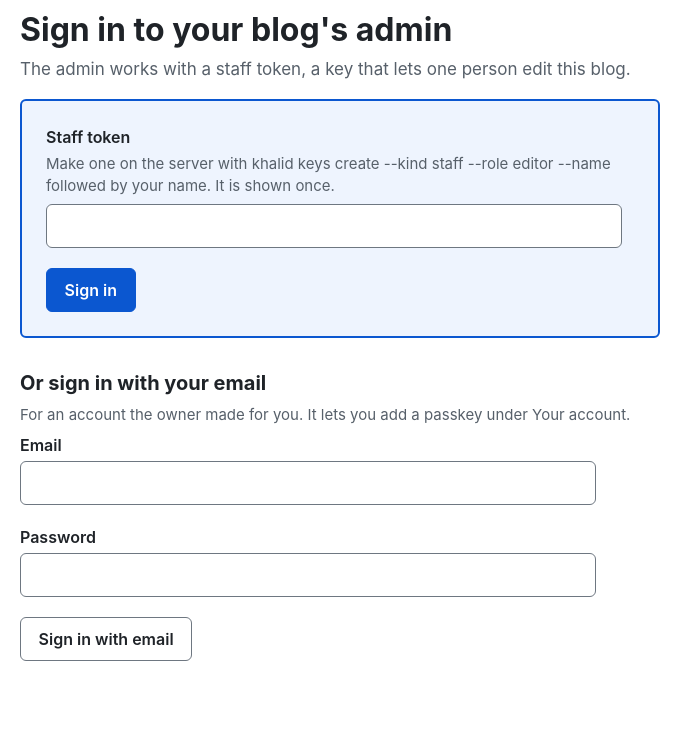
Test case: signing in › shows the API's words for a wrong password, and keeps nothing
The image size is (677, 755).
In the field labelled "Email": (308, 483) [20,461,596,505], type "lena@example.com"
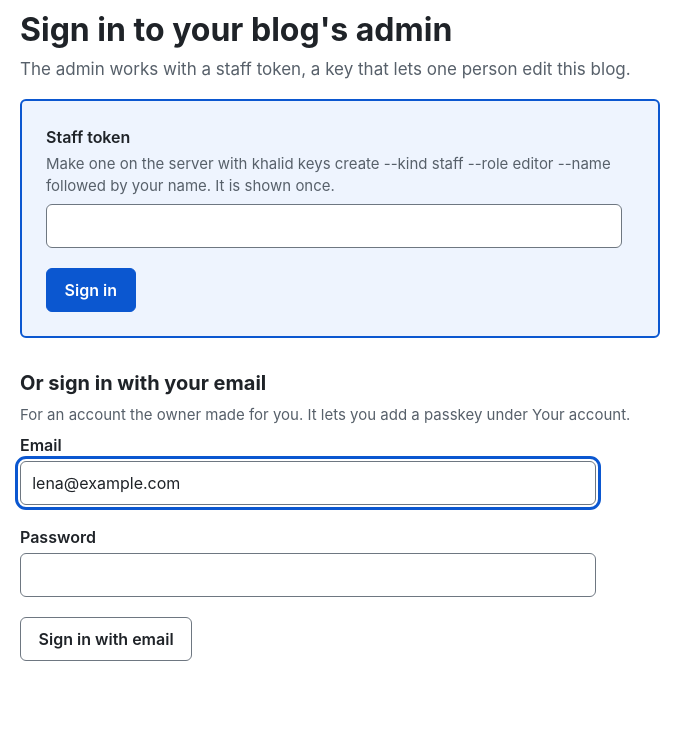
In the password field labelled "Password": (308, 575) [20,553,596,597], type "wrong"
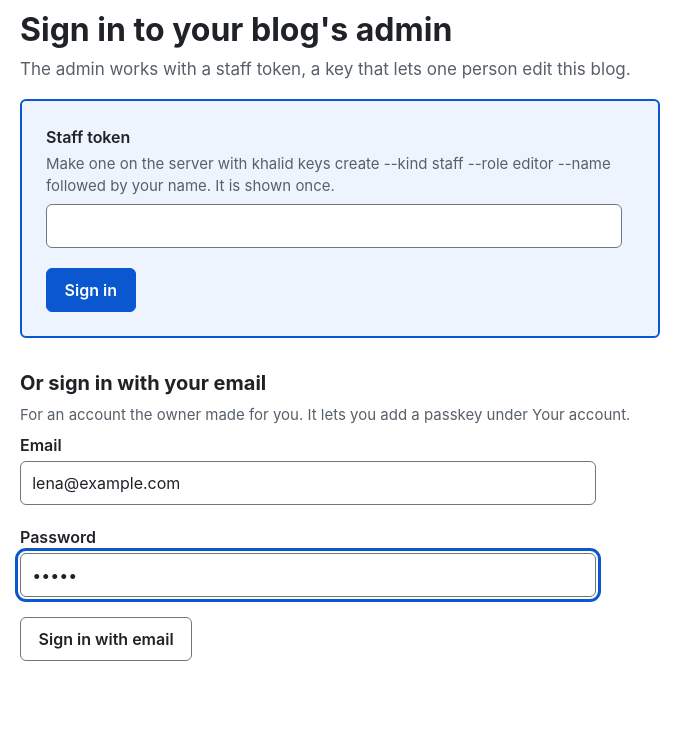
Click the button "Sign in with email": (106, 639) [20,617,192,661]
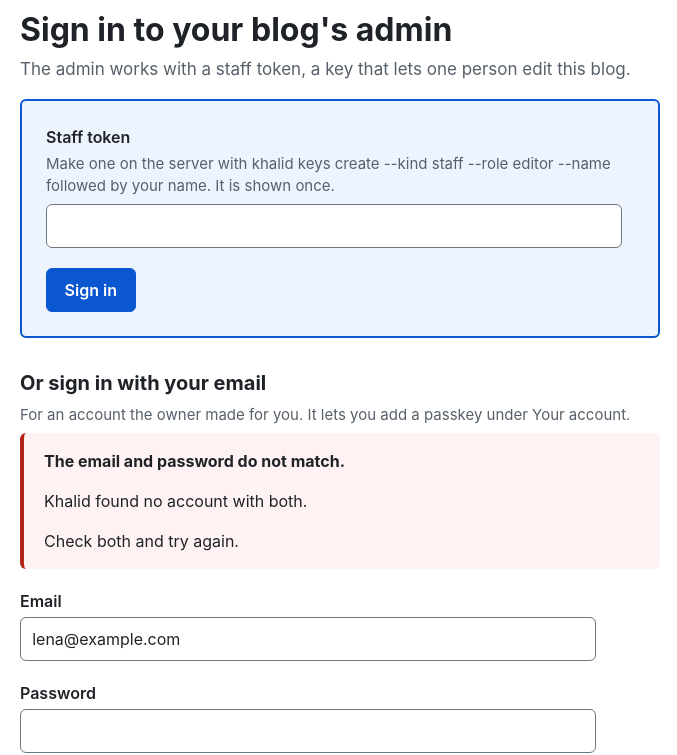
Expected: the message shows "The email and password do not match.", [44,451,345,471]
